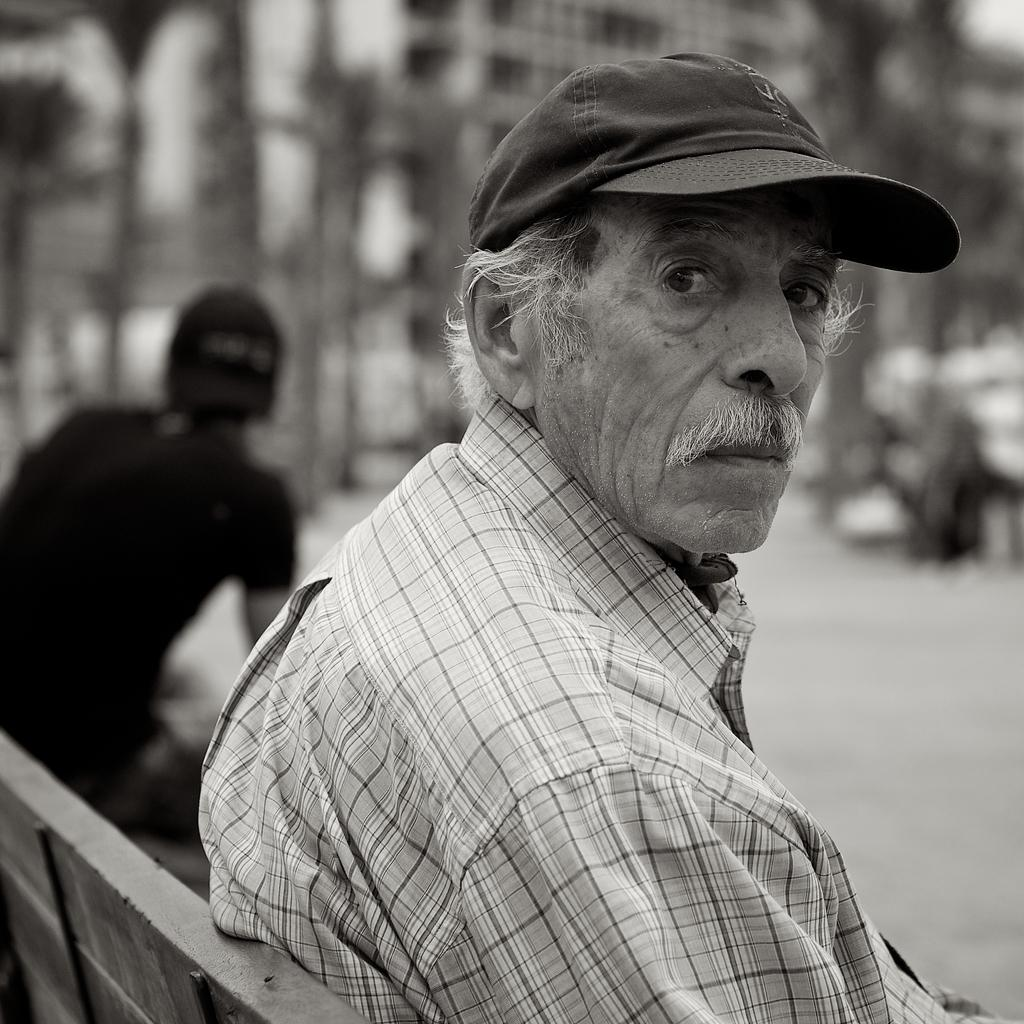Hat: (462, 52, 960, 274)
